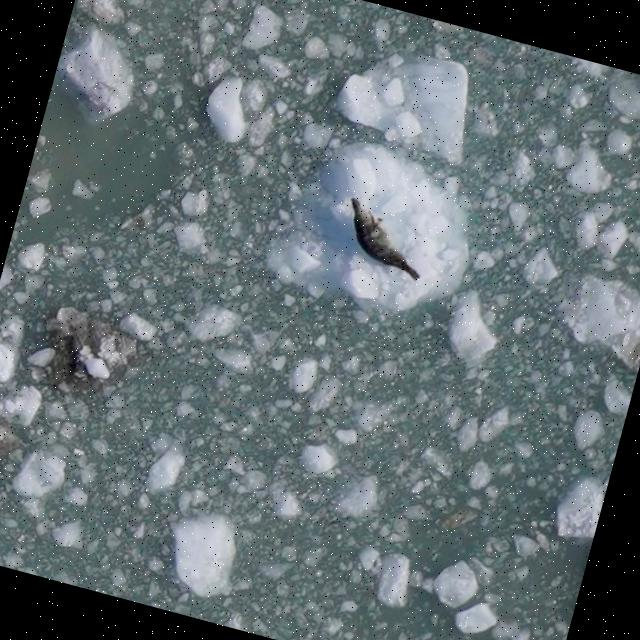seal: (333, 190, 423, 298)
